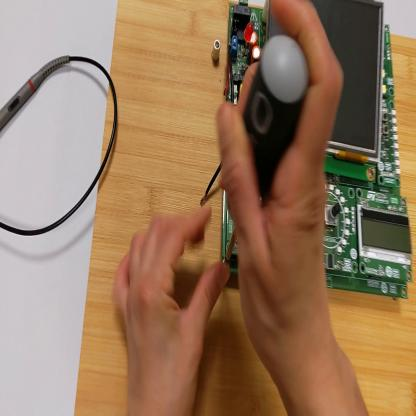hand: (216, 4, 344, 357), (118, 199, 230, 414)
low voltage board: (200, 1, 416, 302)
oscilloscope probe tip: (2, 56, 70, 132)
screwdriver-: (223, 37, 306, 266)
working area: (73, 2, 416, 416)
